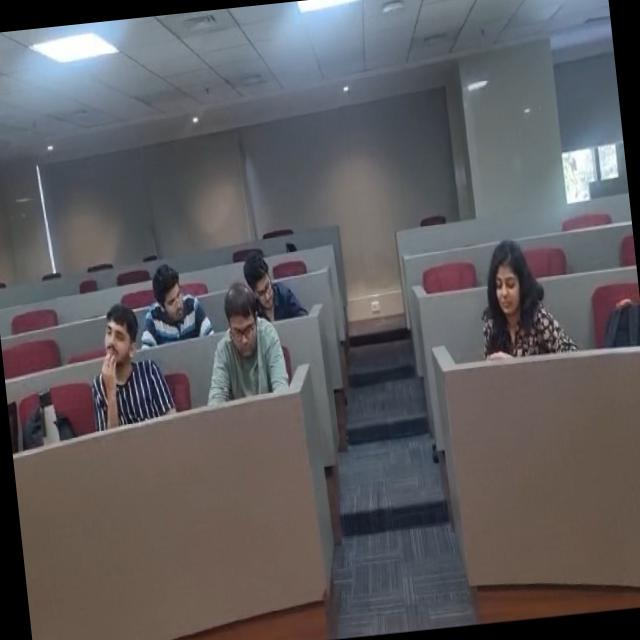cheating: (132, 254, 216, 349)
non-cheating: (451, 229, 589, 364), (68, 294, 168, 454), (196, 270, 286, 406), (228, 240, 290, 320)
